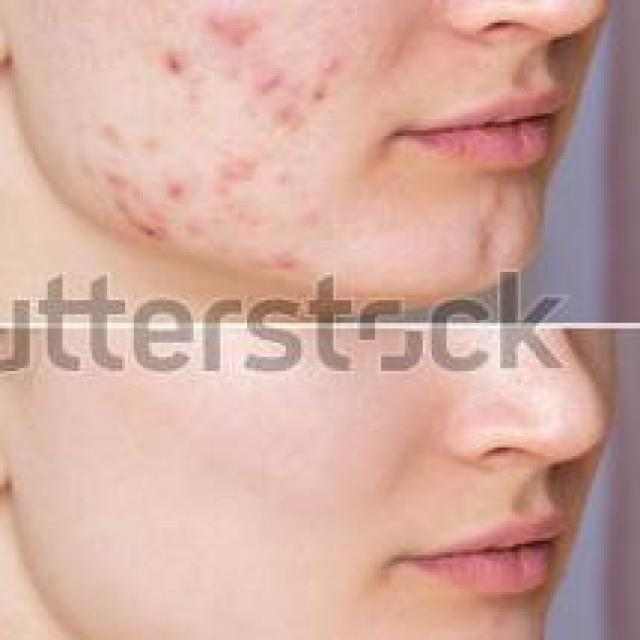blackheads: (95, 162, 167, 246), (202, 9, 262, 48), (220, 144, 256, 190), (271, 99, 301, 128), (268, 246, 301, 272), (101, 119, 128, 150), (163, 48, 184, 77), (140, 130, 161, 156), (300, 198, 318, 227), (322, 51, 339, 76), (262, 65, 277, 91), (310, 85, 324, 108), (166, 184, 182, 198)
